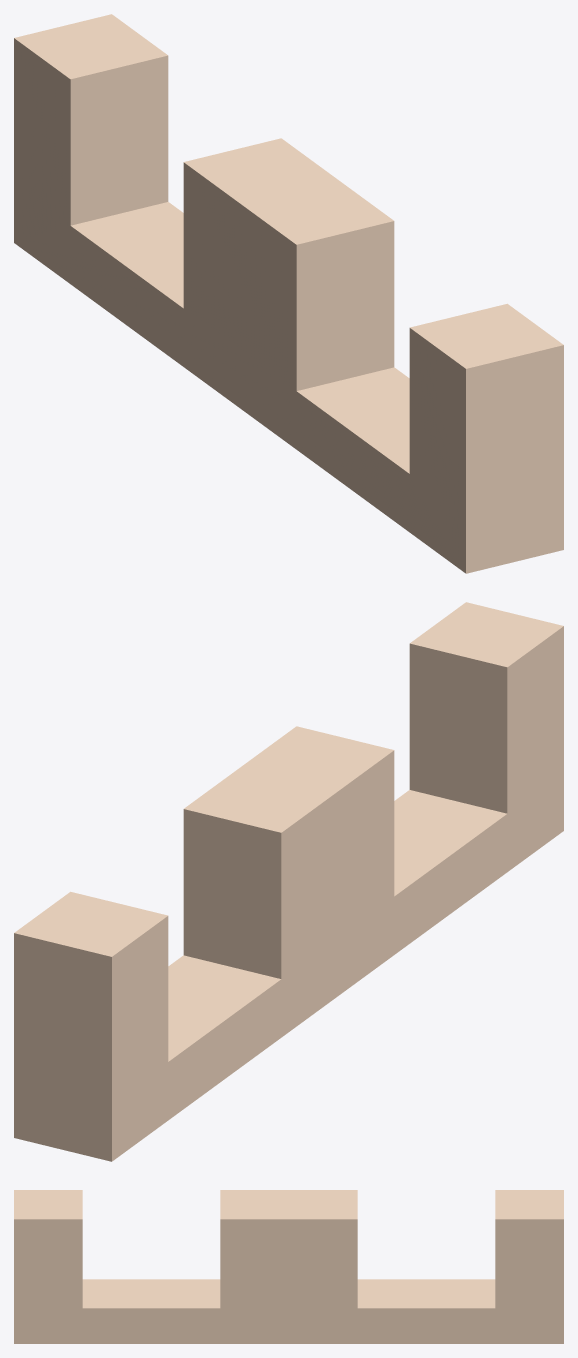
File: Abstract_Castle_Block_0.25_Unit_Beige_Parapet_Left_01.fbx
3 renders of one model, top to bottom at view 1: azimuth 30°, elevation 25°; view 2: azimuth 150°, elevation 25°; view 3: azimuth 270°, elevation 25°, orthographic. The views are drawn at different scales.
Visible parts, largest first — view 1: Model; view 2: Model; view 3: Model.
Boxes of the visible parts, x1,y1,x2,y2 form: Model: (14, 14, 563, 573); Model: (14, 602, 563, 1161); Model: (14, 1190, 563, 1343).
Bounding box in the file's own units: 125 × 250 × 1000.
